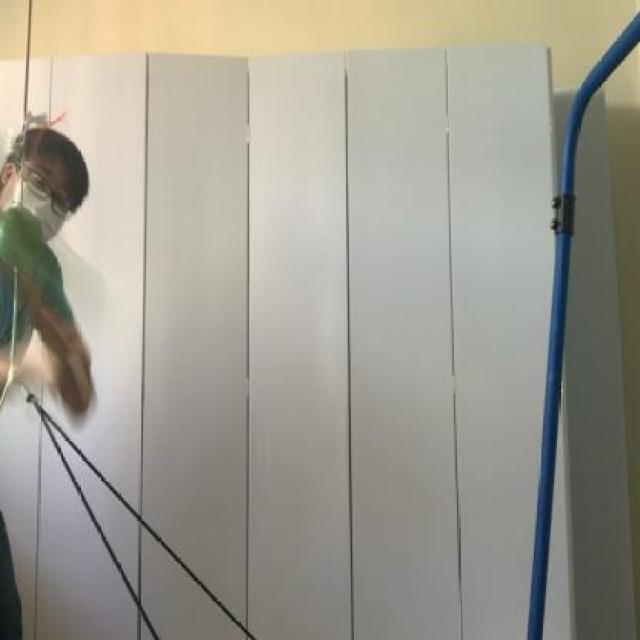baseball: (0, 198, 111, 327)
